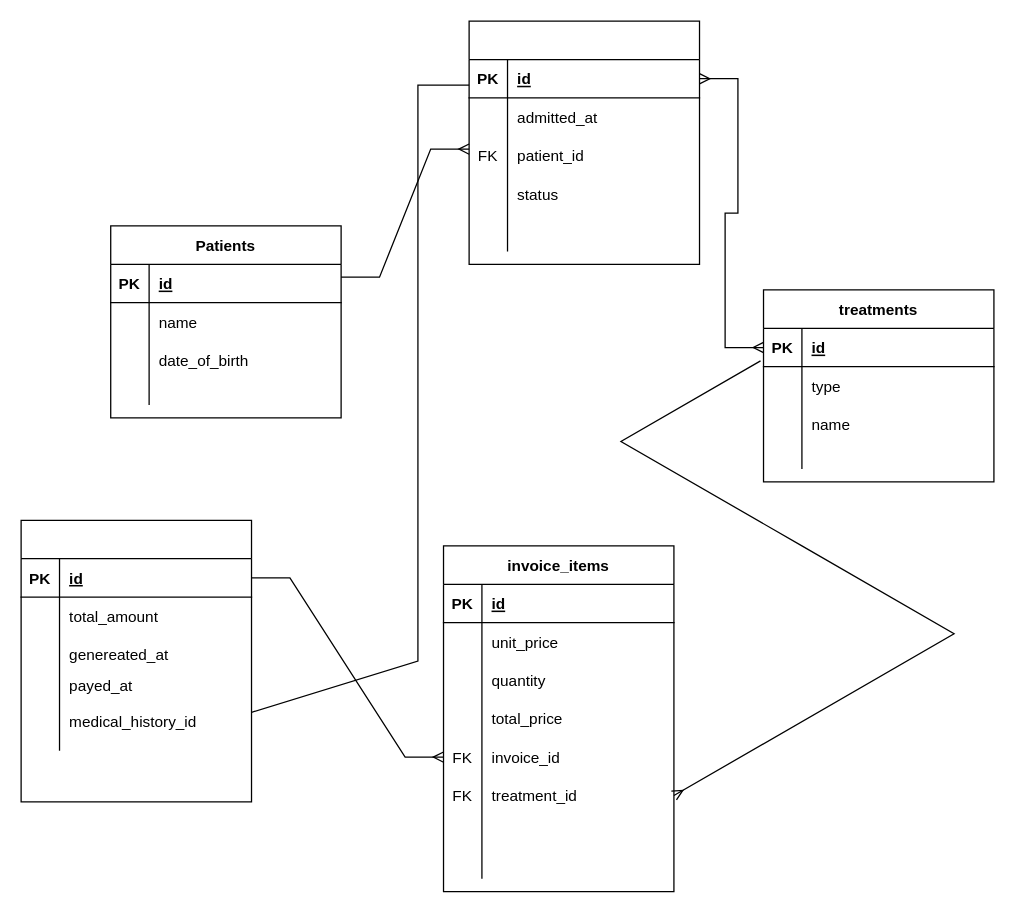
The diagram is 1015 pixels wide and 913 high, and some of its shapes have lost their labels. Each missing label, with the box of its shape:
invoices: (20, 519, 252, 802)
medical_histories: (468, 20, 700, 264)
